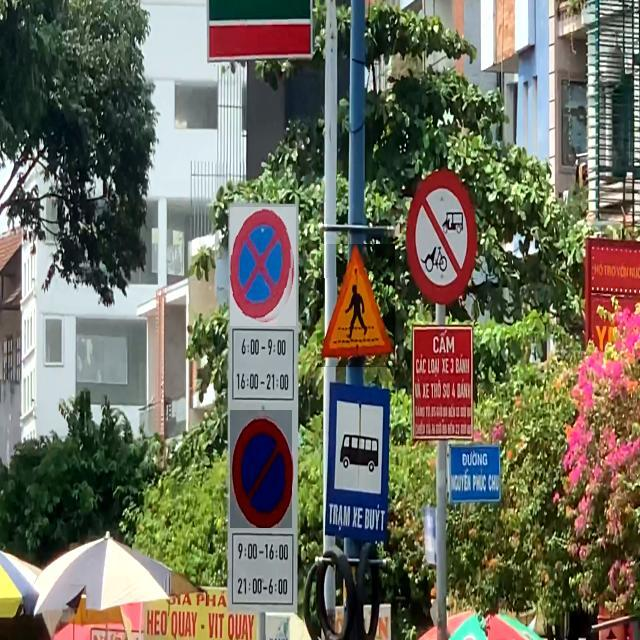P-130: (231, 207, 297, 326)
P-131a: (230, 410, 292, 528)
W-224: (317, 244, 395, 367)
